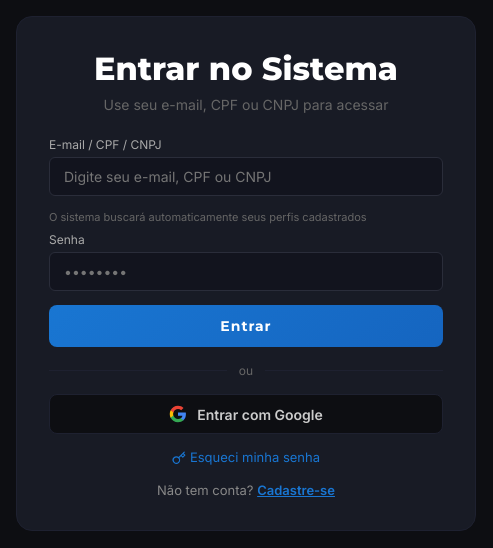
Test case: TelaLogin › alterna para modo de recuperação de senha
Click the button "Esqueci minha senha": [246, 457] box [172, 449, 320, 466]
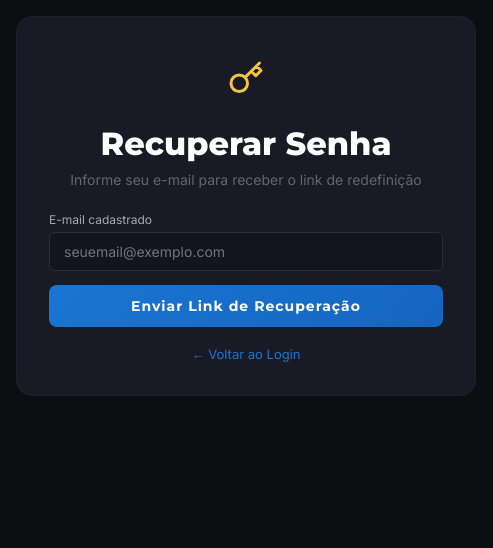
Expected: the heading "Recuperar Senha" is shown, [100, 124, 392, 163]
Expected: the field with placeholder "seuemail@exemplo.com" is shown, [49, 232, 443, 271]
